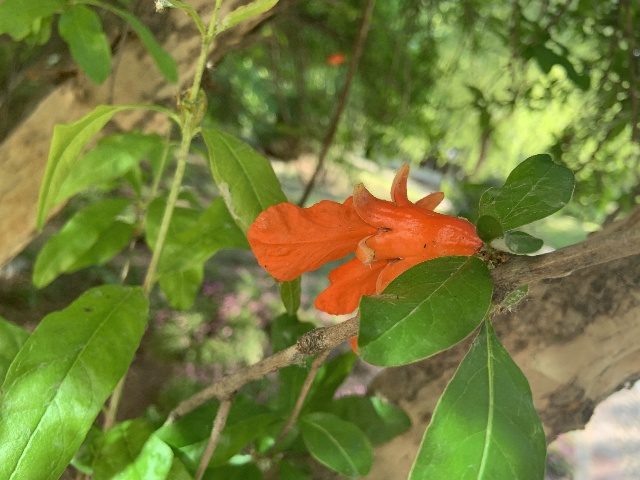flower: (248, 162, 483, 354)
